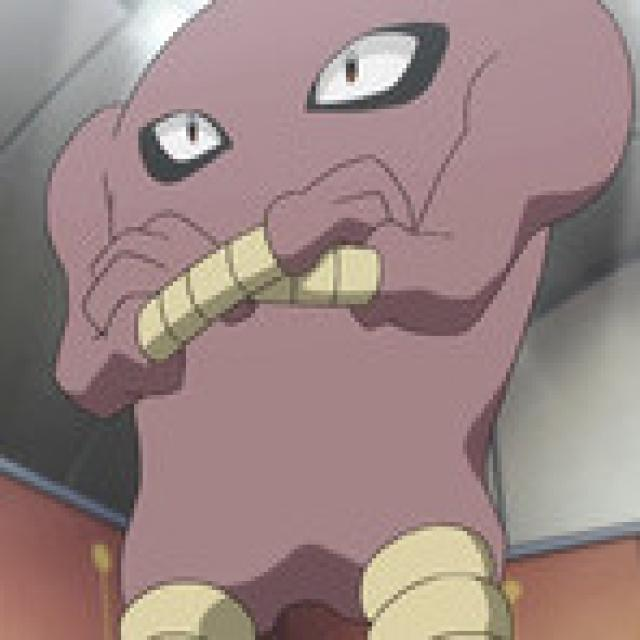Hitmonlee: (24, 0, 629, 640)
